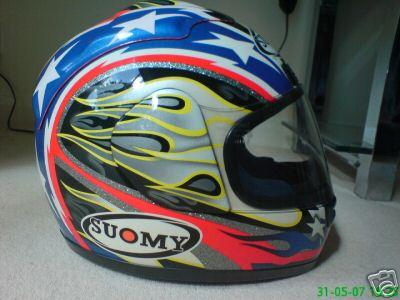helmet: (32, 6, 245, 274)
